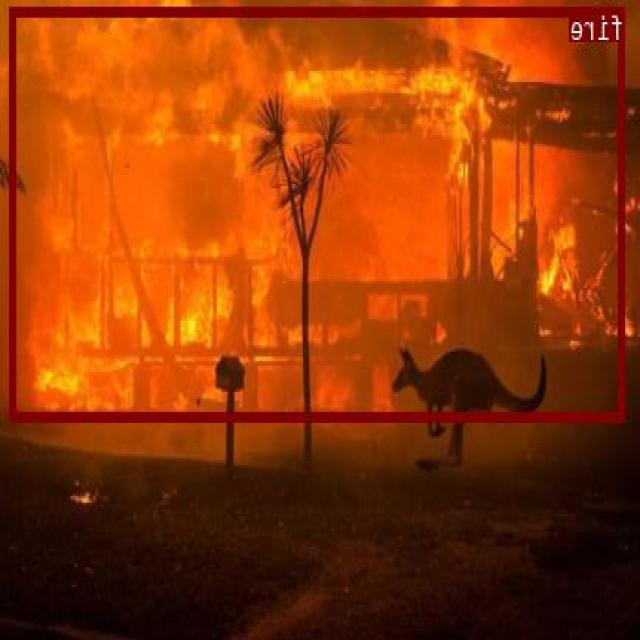fire: (11, 5, 626, 419)
